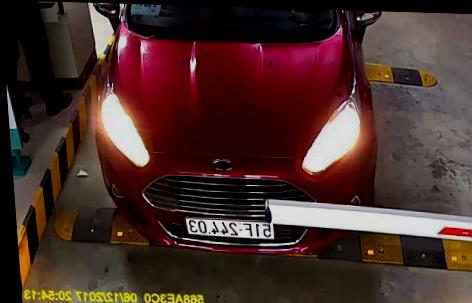License_Plate: (181, 214, 276, 242)
